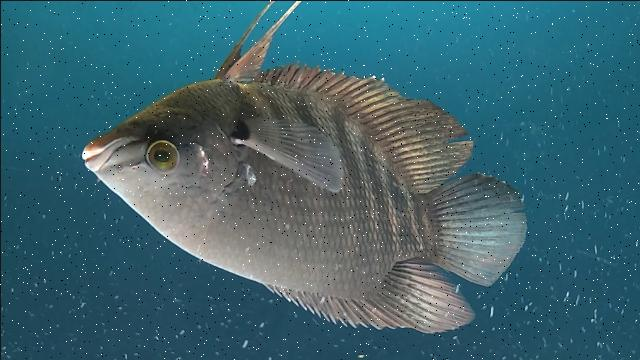Mulut: (63, 110, 149, 186)
Sirip Anal: (243, 55, 485, 202)
Sirip Dada: (222, 100, 350, 200)
Sirip Ekor: (420, 166, 540, 294)
Sirip Perut: (205, 15, 282, 87)
Sirip Punggung: (258, 253, 482, 339)
